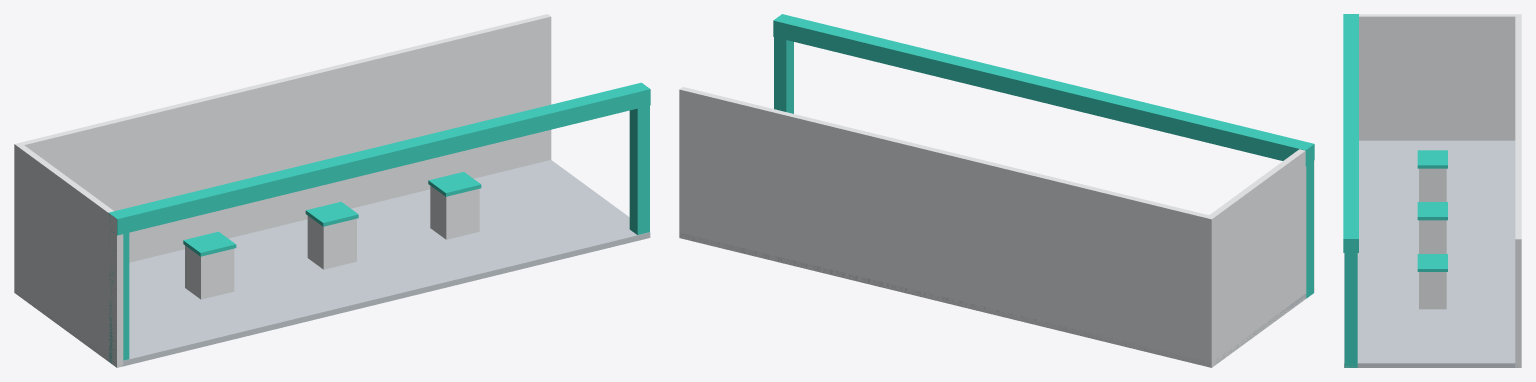
3 renders of one model, left to right at view 1: azimuth 30°, elevation 25°; view 2: azimuth 150°, elevation 25°; view 3: azimuth 270°, elevation 25°, orthographic. The views are drawn at different scales.
Visible parts, largest first — view 1: Exhibition Booth Concept; view 2: Exhibition Booth Concept; view 3: Exhibition Booth Concept.
Boxes of the visible parts, x1,y1,x2,y2 form: Exhibition Booth Concept: (14,14,650,367); Exhibition Booth Concept: (679,14,1314,367); Exhibition Booth Concept: (1343,14,1521,367).
Size of the model in its own units: 12 by 3.2 by 4.02.
